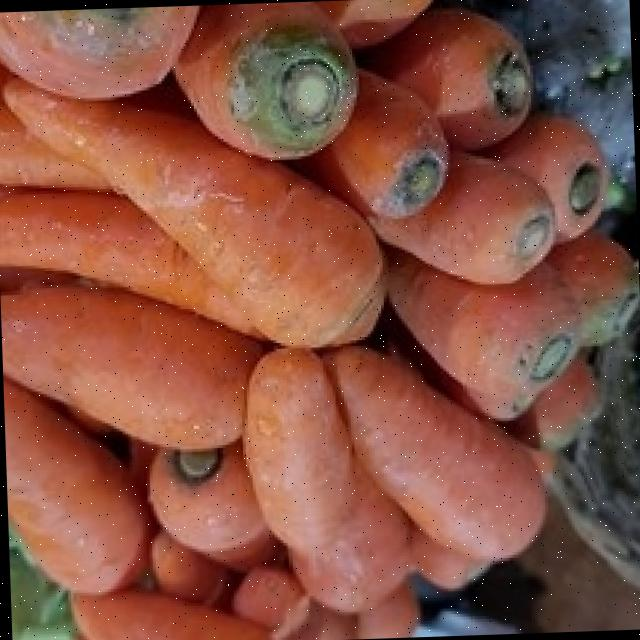carrot: (0, 0, 631, 640)
